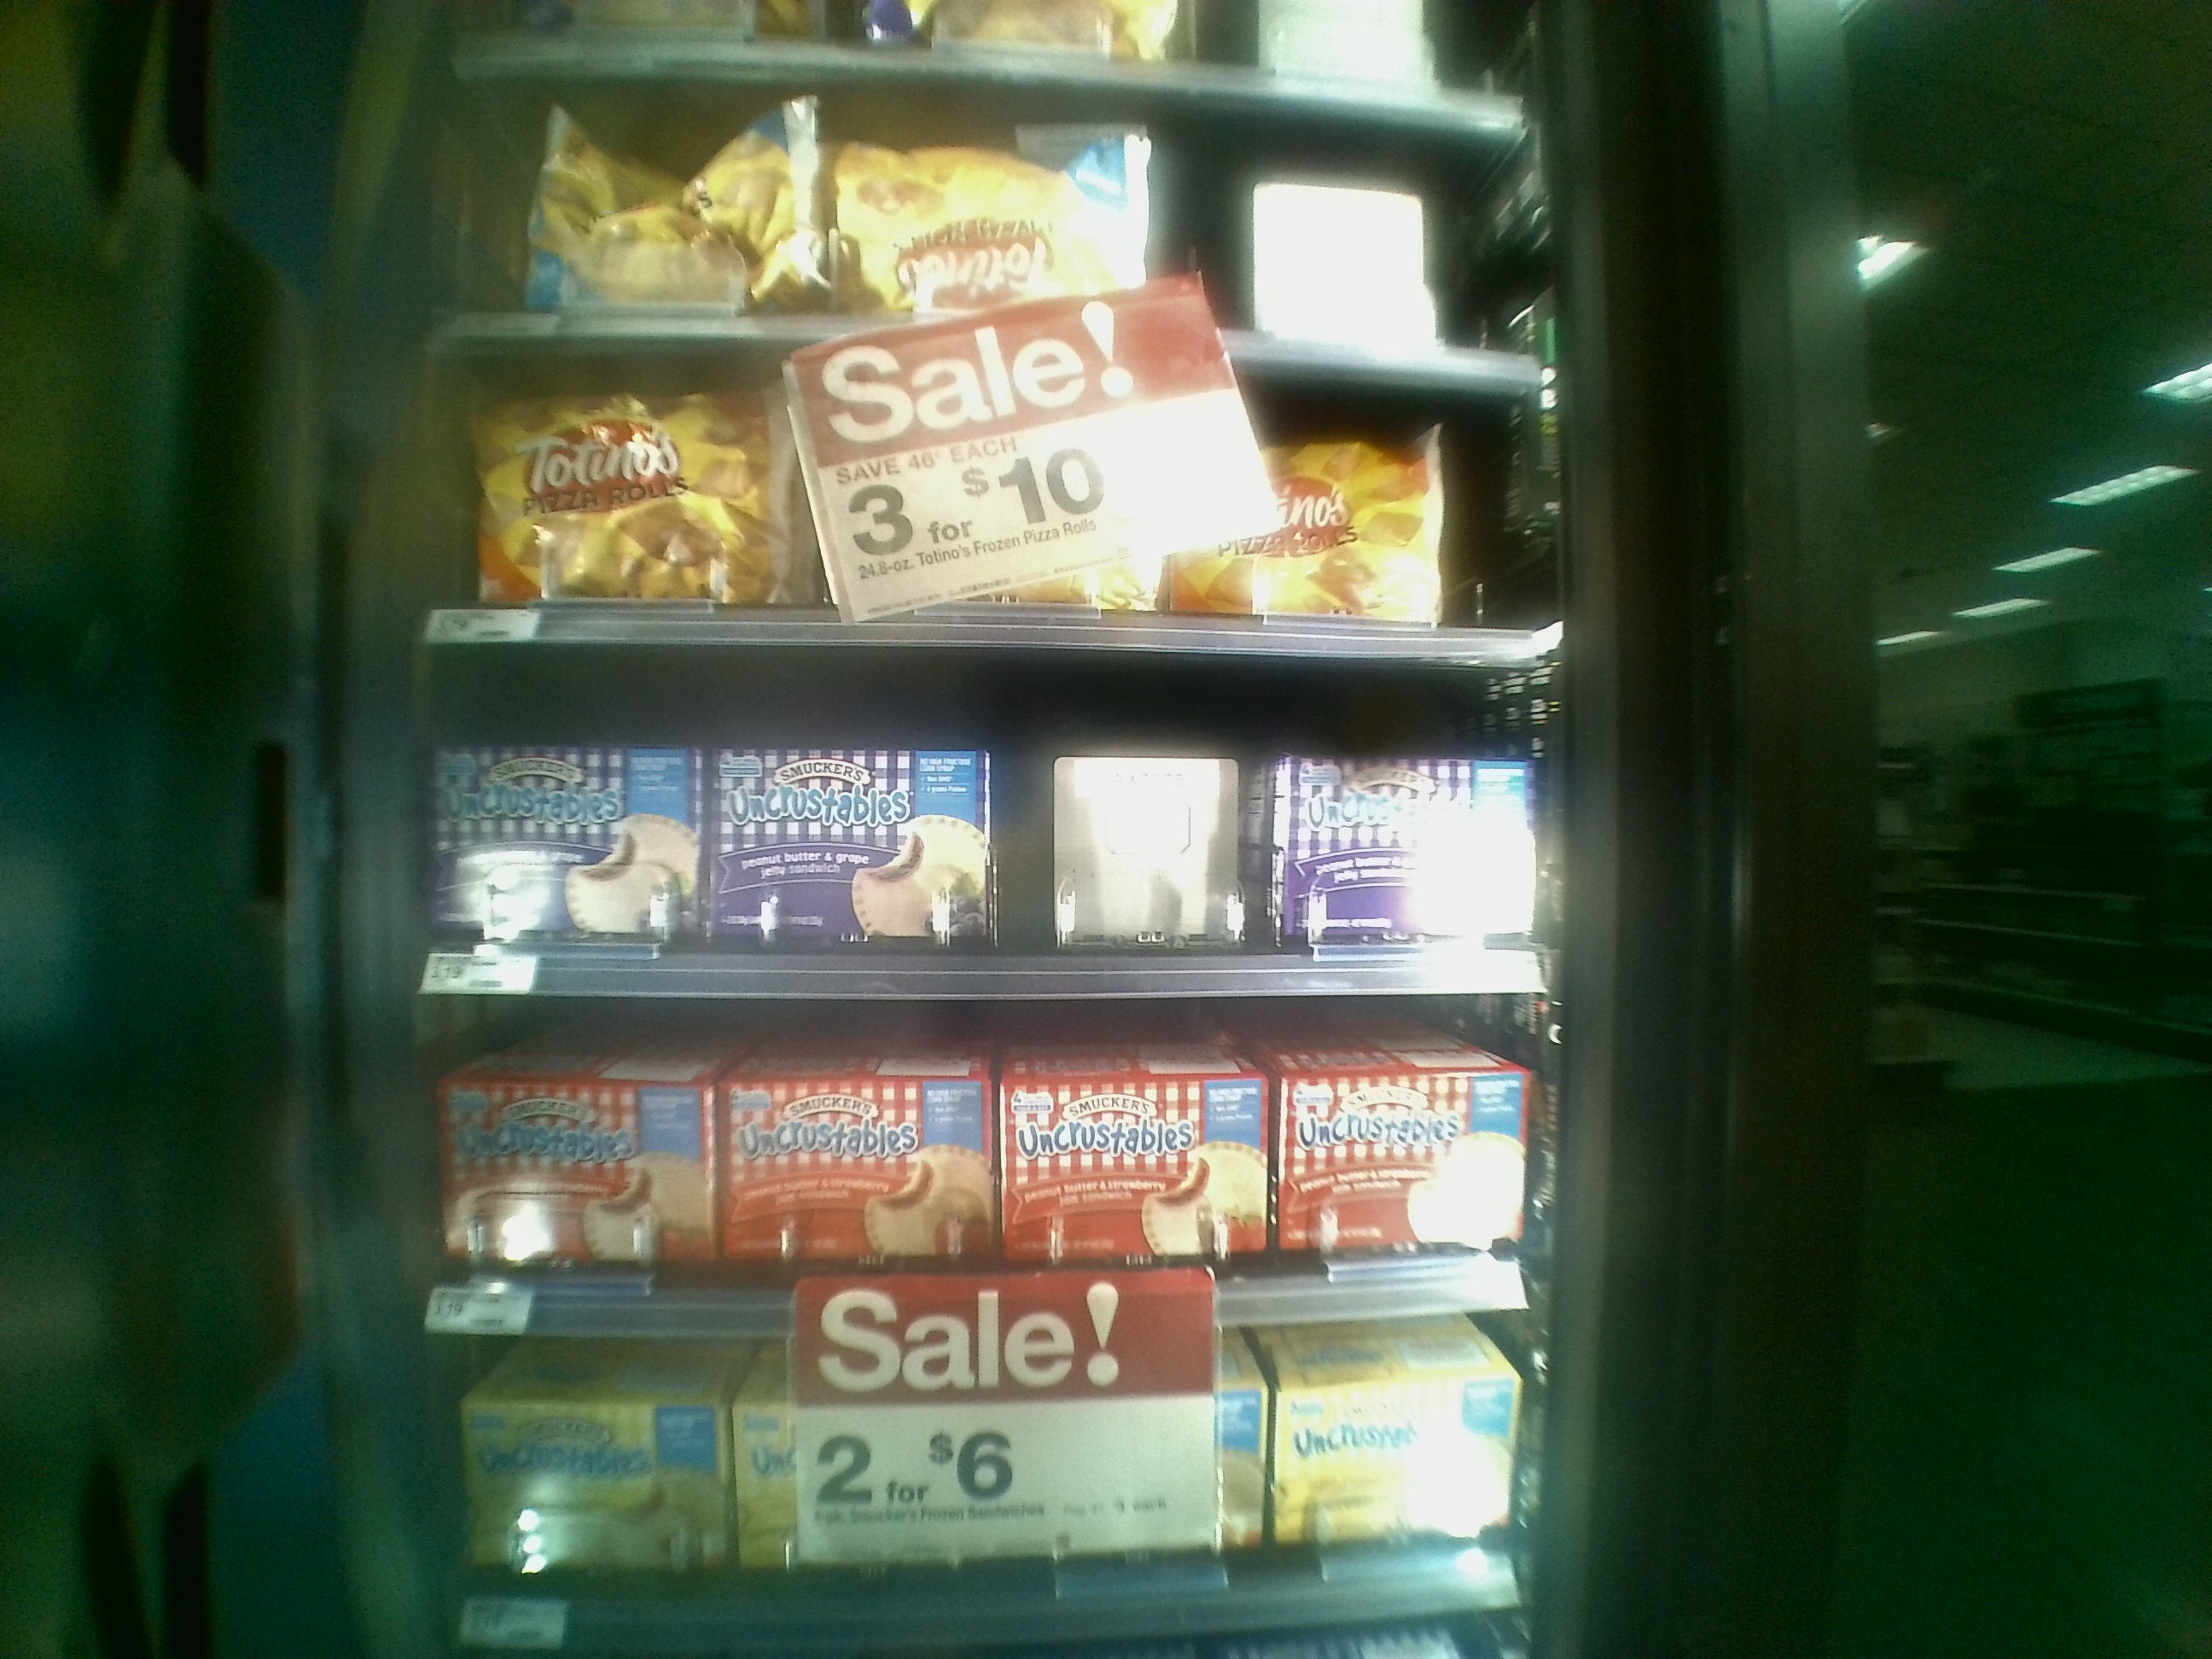shelf: (392, 622, 1571, 993), (409, 986, 1566, 1335), (394, 1319, 1541, 1619), (441, 73, 1550, 382)
